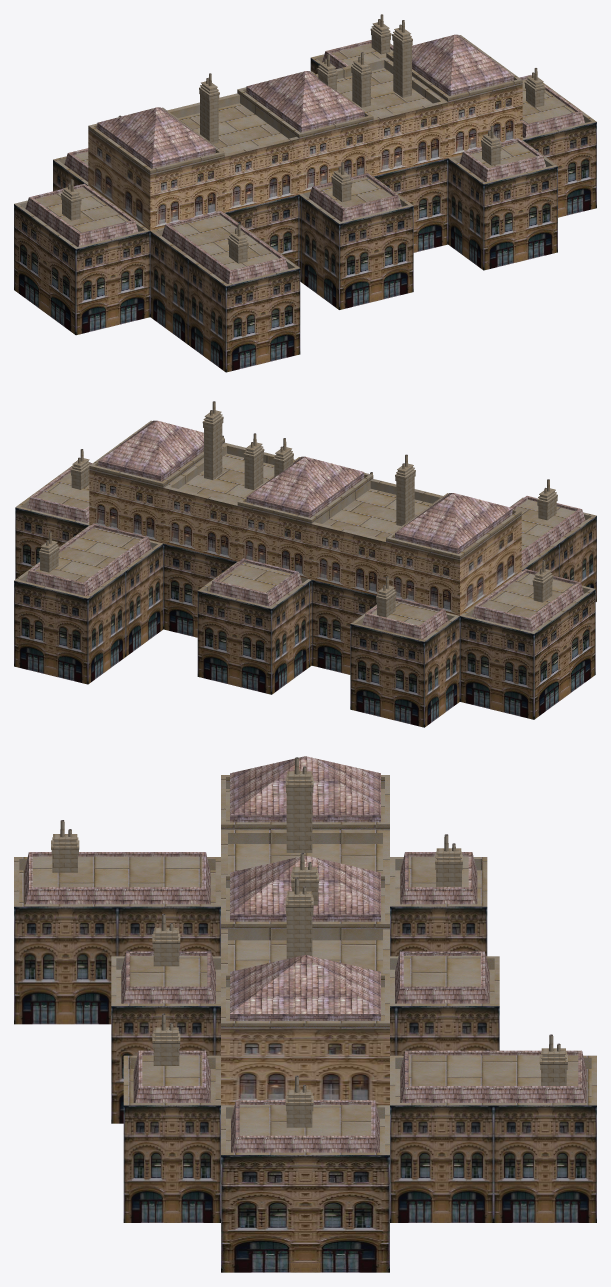
Rendered from building.dae.
3 views of the same model, one above another, from view 1: azimuth 30°, elevation 25°; view 2: azimuth 150°, elevation 25°; view 3: azimuth 270°, elevation 25° (orthographic). The views are drawn at different scales.
Visible parts, largest first — view 1: bldg715_bldg715_15_-_Default2_bldg715_bldg715_15_-_Default2_, bldg715_bldg715_20_-_Default_bldg715_bldg715_20_-_Default_2_, bldg715_bldg715_11_-_Defaultds_bldg715_bldg715_11_-_Default_, bldg715_bldg715_rooff22_bldg715_bldg715_rooff22_rooff22_bld_, bldg715_bldg715_15_-_Default3_bldg715_bldg715_15_-_Default3_; view 2: bldg715_bldg715_15_-_Default2_bldg715_bldg715_15_-_Default2_, bldg715_bldg715_11_-_Defaultds_bldg715_bldg715_11_-_Default_, bldg715_bldg715_20_-_Default_bldg715_bldg715_20_-_Default_2_, bldg715_bldg715_rooff22_bldg715_bldg715_rooff22_rooff22_bld_, bldg715_bldg715_15_-_Default3_bldg715_bldg715_15_-_Default3_; view 3: bldg715_bldg715_15_-_Default2_bldg715_bldg715_15_-_Default2_, bldg715_bldg715_11_-_Defaultds_bldg715_bldg715_11_-_Default_, bldg715_bldg715_rooff22_bldg715_bldg715_rooff22_rooff22_bld_, bldg715_bldg715_20_-_Default_bldg715_bldg715_20_-_Default_2_, bldg715_bldg715_15_-_Default3_bldg715_bldg715_15_-_Default3_.
Boxes of the visible parts, x1=… form: bldg715_bldg715_15_-_Default2_bldg715_bldg715_15_-_Default2_: x1=14, y1=58, x2=596, y2=372; bldg715_bldg715_20_-_Default_bldg715_bldg715_20_-_Default_2_: x1=88, y1=84, x2=522, y2=230; bldg715_bldg715_11_-_Defaultds_bldg715_bldg715_11_-_Default_: x1=14, y1=14, x2=596, y2=286; bldg715_bldg715_rooff22_bldg715_bldg715_rooff22_rooff22_bld_: x1=25, y1=34, x2=584, y2=283; bldg715_bldg715_15_-_Default3_bldg715_bldg715_15_-_Default3_: x1=62, y1=25, x2=544, y2=263; bldg715_bldg715_15_-_Default2_bldg715_bldg715_15_-_Default2_: x1=14, y1=507, x2=596, y2=727; bldg715_bldg715_11_-_Defaultds_bldg715_bldg715_11_-_Default_: x1=14, y1=401, x2=596, y2=641; bldg715_bldg715_20_-_Default_bldg715_bldg715_20_-_Default_2_: x1=89, y1=470, x2=521, y2=615; bldg715_bldg715_rooff22_bldg715_bldg715_rooff22_rooff22_bld_: x1=26, y1=420, x2=585, y2=639; bldg715_bldg715_15_-_Default3_bldg715_bldg715_15_-_Default3_: x1=40, y1=413, x2=556, y2=617; bldg715_bldg715_15_-_Default2_bldg715_bldg715_15_-_Default2_: x1=14, y1=906, x2=596, y2=1272; bldg715_bldg715_11_-_Defaultds_bldg715_bldg715_11_-_Default_: x1=14, y1=757, x2=596, y2=1154; bldg715_bldg715_rooff22_bldg715_bldg715_rooff22_rooff22_bld_: x1=24, y1=756, x2=586, y2=1152; bldg715_bldg715_20_-_Default_bldg715_bldg715_20_-_Default_2_: x1=221, y1=1028, x2=389, y2=1105; bldg715_bldg715_15_-_Default3_bldg715_bldg715_15_-_Default3_: x1=52, y1=777, x2=566, y2=1127.
Size of what is drawn, in the model's own units: 6.9 by 4.89 by 2.63.
